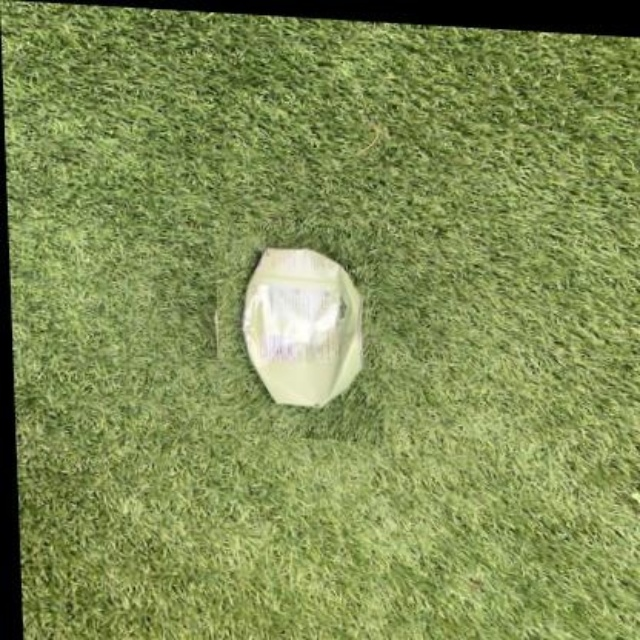trash: (243, 248, 362, 406)
